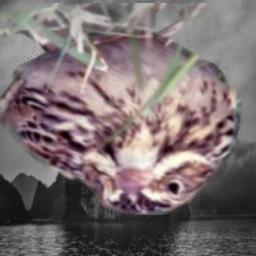Sparrow: (0, 3, 243, 215)
